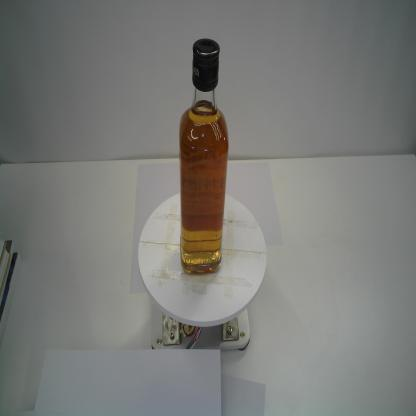Seasoner: (175, 37, 232, 280)
